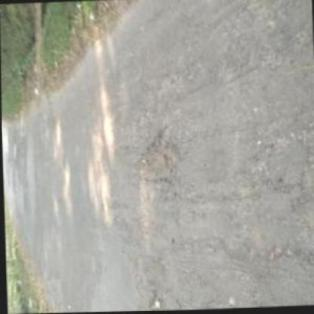Hueco: (130, 122, 182, 187), (146, 285, 168, 311)
